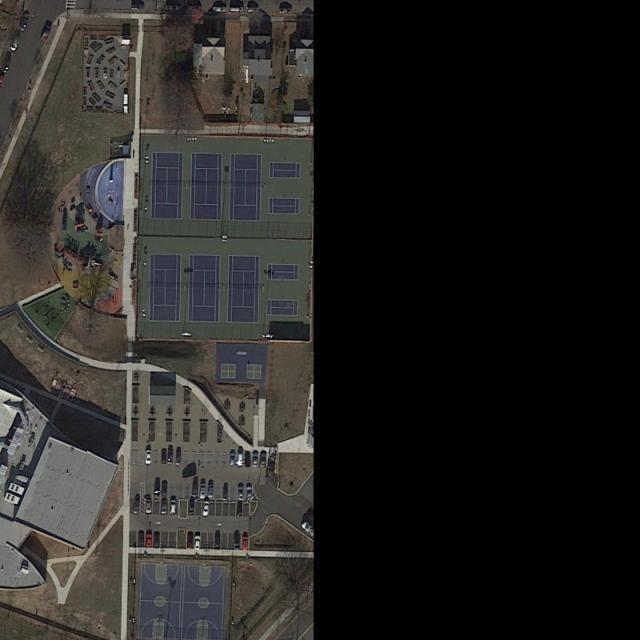vehicle: (38, 21, 54, 42), (18, 14, 32, 31), (2, 53, 13, 73), (9, 37, 22, 52), (169, 498, 178, 515), (191, 482, 200, 498), (132, 500, 141, 515), (260, 450, 267, 469), (166, 447, 174, 463), (165, 4, 181, 12), (161, 498, 169, 514), (187, 499, 195, 515), (202, 500, 210, 516), (246, 486, 254, 501), (236, 500, 244, 515), (154, 483, 162, 498), (175, 450, 182, 466), (146, 450, 153, 466), (199, 483, 206, 499), (227, 6, 243, 13), (187, 5, 203, 12), (146, 499, 153, 515), (154, 531, 161, 547), (222, 487, 230, 501), (131, 2, 145, 10), (194, 535, 201, 550), (246, 6, 259, 14), (212, 6, 229, 12), (214, 535, 221, 549), (138, 531, 144, 547), (234, 534, 240, 550), (242, 534, 248, 550), (244, 453, 251, 466), (162, 485, 169, 498), (238, 486, 244, 501), (253, 453, 259, 468), (208, 484, 214, 499), (188, 534, 194, 549), (237, 453, 244, 465), (161, 450, 167, 464), (278, 8, 291, 14), (230, 453, 236, 466), (147, 532, 152, 547)
